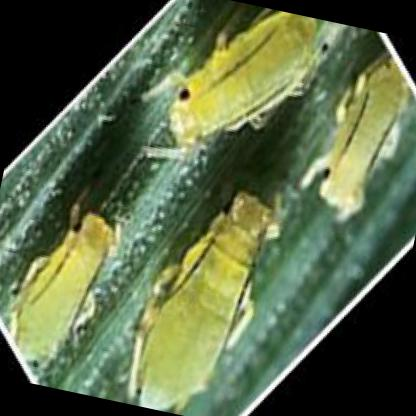schizaphis graminum: (139, 196, 270, 407), (169, 12, 315, 150), (299, 57, 406, 223), (11, 212, 112, 359)
